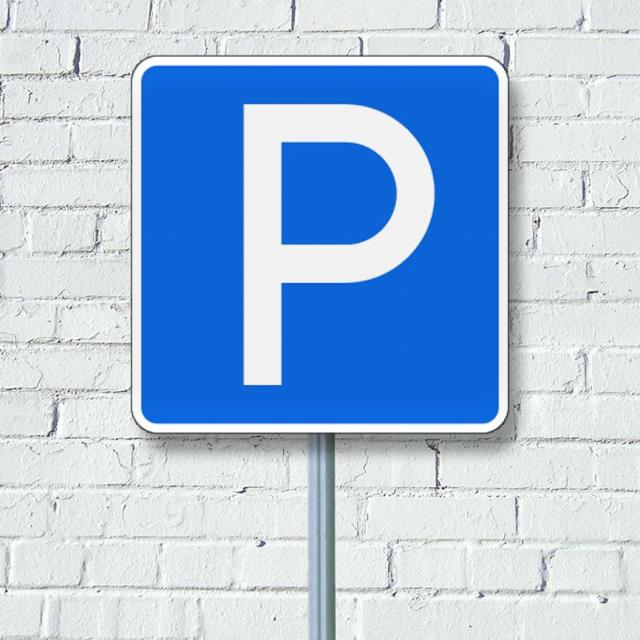parking: (128, 46, 512, 441)
